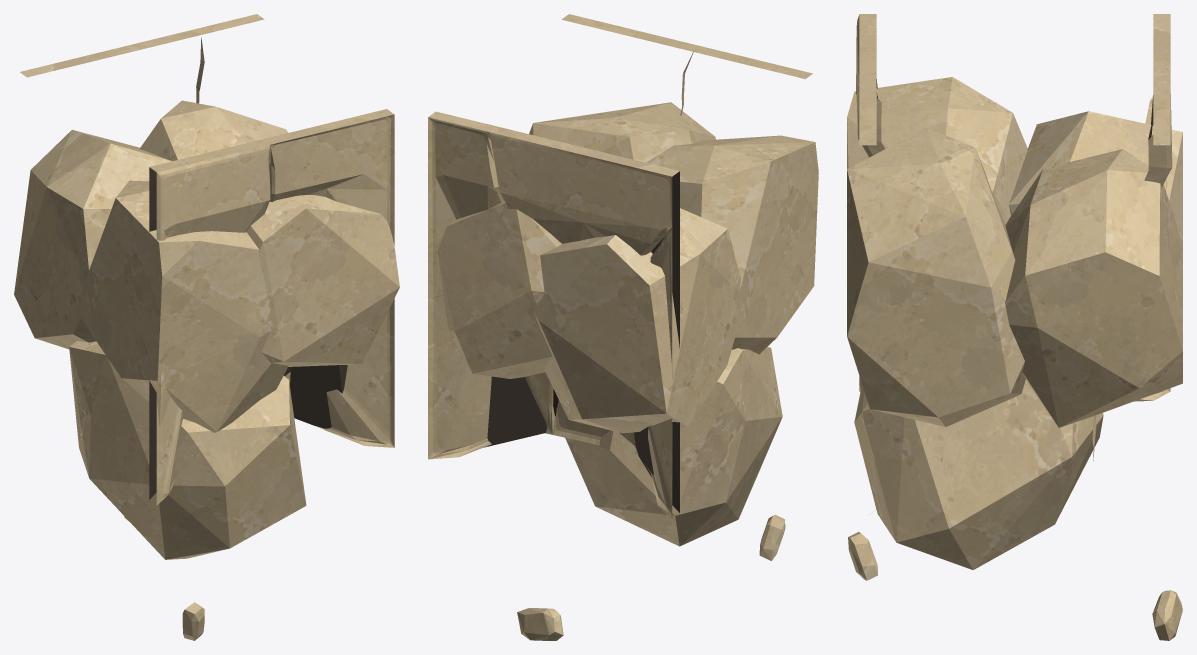
File: ground_bottom_square_strip_02.glb
The picture shows the model from 3 angles, left to right: view 1: azimuth 30°, elevation 25°; view 2: azimuth 150°, elevation 25°; view 3: azimuth 270°, elevation 25°; orthographic projection. The views are drawn at different scales.
Parts seen in each view (by area): view 1: GroundBottomSquareStrip02_Body; view 2: GroundBottomSquareStrip02_Body; view 3: GroundBottomSquareStrip02_Body.
Boxes of the visible parts, left/top/right/bottom form: GroundBottomSquareStrip02_Body: left=14, top=14, right=399, bottom=640; GroundBottomSquareStrip02_Body: left=428, top=14, right=818, bottom=640; GroundBottomSquareStrip02_Body: left=847, top=14, right=1182, bottom=640.
Bounding box in the file's own units: 1 × 1.95 × 1.08.
8 materials, 7 textured.
